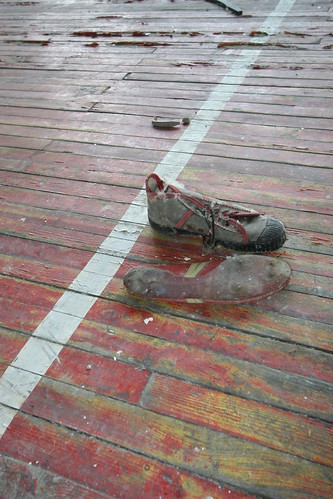court: (2, 1, 330, 496)
shoe: (103, 164, 283, 312)
